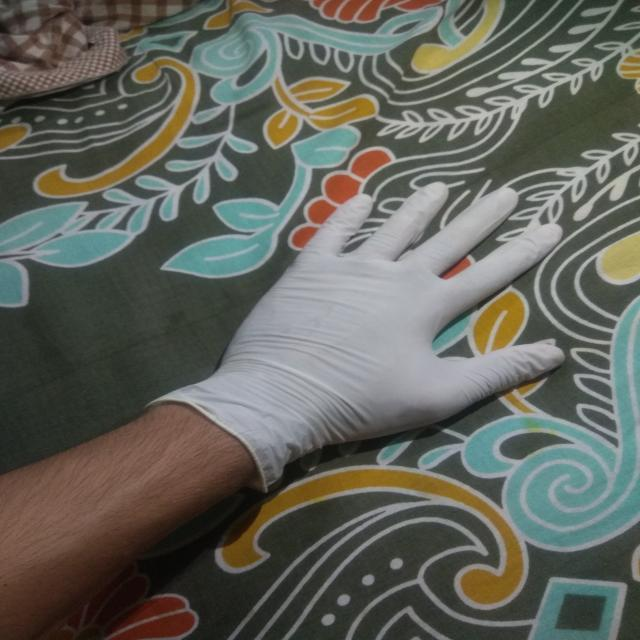glove_hand: (138, 180, 572, 495)
